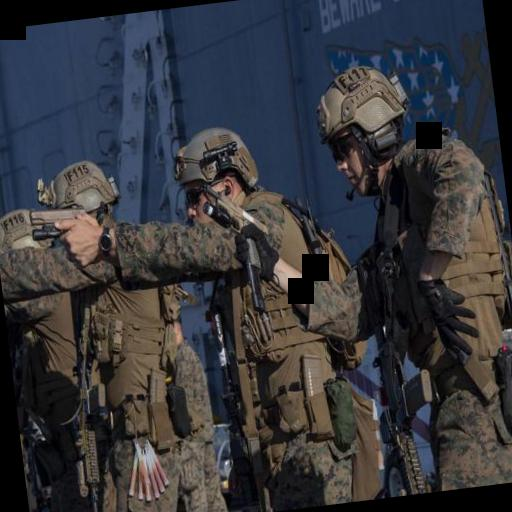Handgun: (198, 172, 274, 320), (26, 196, 88, 251)
